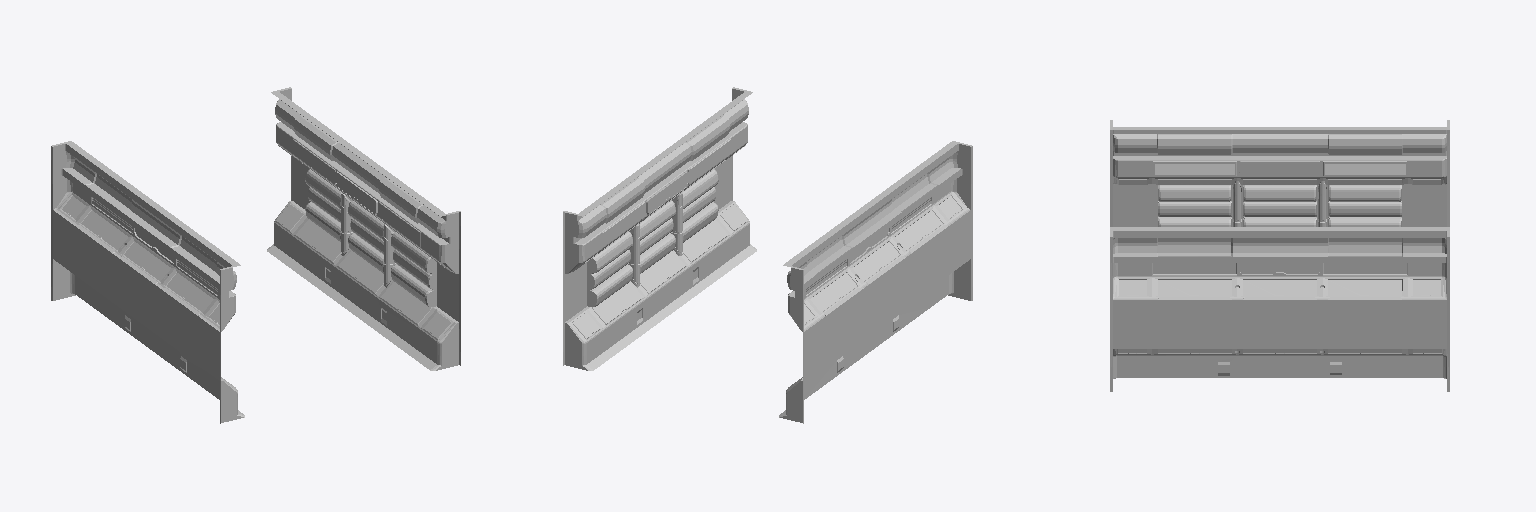
File: hallway_walls.obj
3 views of the same model, side by side, from view 1: azimuth 30°, elevation 25°; view 2: azimuth 150°, elevation 25°; view 3: azimuth 270°, elevation 25° (orthographic).
Parts seen in each view (by area): view 1: HallwayStraight001_Untitled; view 2: HallwayStraight001_Untitled; view 3: HallwayStraight001_Untitled.
Boxes of the visible parts, x1,y1,x2,y2 form: HallwayStraight001_Untitled: [51, 87, 460, 423]; HallwayStraight001_Untitled: [563, 87, 972, 423]; HallwayStraight001_Untitled: [1110, 120, 1449, 391].
Size of the model in its own units: 6.5 by 4 by 8.